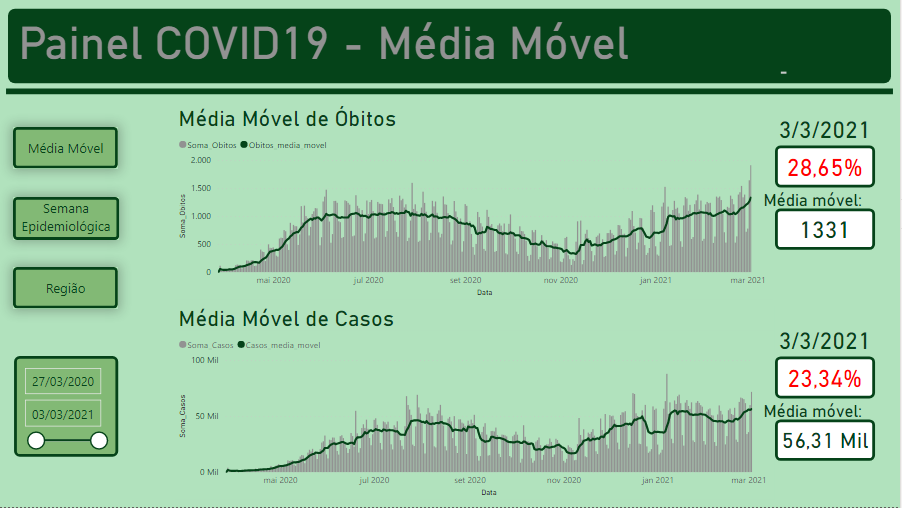

The dashboard page shown, as its layout file describes it:
{"tool":"powerbi","page":{"name":"Media_Movel","canvas":[1280,720],"ordinal":0},"visuals":[{"type":"actionButton","box":[20,280,150.8,60.6],"z":0},{"type":"actionButton","box":[20,380,149.3,59.1],"z":1000},{"type":"actionButton","box":[20,180,149.3,59.1],"z":2000},{"type":"basicShape","box":[0,11.8,1280,107.9],"z":3000},{"type":"textbox","title":"Painel COVID19 - Média Móvel","box":[22.2,22.2,1101.2,87.2],"z":4000},{"type":"basicShape","box":[0,121.2,1280,17.7],"z":5000},{"type":"basicShape","box":[20,504,150.8,146.3],"z":6000},{"type":"lineClusteredColumnComboChart","title":"Média Móvel de Óbitos","fields":{"Category":["Media movel.Data"],"Y2":["Media movel.Obitos_media_movel"],"Y":["Sum(Media movel.Soma_Obitos)"]},"box":[250,150.2,850,274.9],"z":7000},{"type":"lineClusteredColumnComboChart","title":"Média Móvel de Casos","fields":{"Category":["Media movel.Data"],"Y2":["Media movel.Casos_media_movel"],"Y":["Sum(Media movel.Soma_Casos)"]},"box":[250,434.7,851,274.9],"z":8000},{"type":"slicer","fields":{"Values":["Media movel.Data"]},"box":[23.6,512.9,138.9,134.5],"z":9000},{"type":"basicShape","box":[1100.7,205.7,145.4,60.7],"z":10000},{"type":"card","fields":{"Values":["Media movel.Obitos_Variação_14_dias"]},"box":[1105.5,205.7,135.8,57.5],"z":11000},{"type":"card","fields":{"Values":["Max(Media movel.Data)"]},"box":[1081.5,159.4,183.8,46.3],"z":12000},{"type":"basicShape","box":[1100.8,296.2,145.2,59.8],"z":12500},{"type":"card","title":"Média móvel:","fields":{"Values":["Media movel.Obitos_media_movel"]},"box":[1081.5,271.3,183.8,78.3],"z":13000},{"type":"basicShape","box":[1100.7,505.6,145.4,60.7],"z":14000},{"type":"card","fields":{"Values":["Media movel.Casos_Variação_14_dias"]},"box":[1105.5,505.6,135.8,57.5],"z":15000},{"type":"card","fields":{"Values":["Max(Media movel.Data)"]},"box":[1081.5,459.2,183.8,46.3],"z":16000},{"type":"basicShape","box":[1100.6,595.2,145.2,59.8],"z":16500},{"type":"card","title":"Média móvel:","fields":{"Values":["Media movel.Casos_media_movel"]},"box":[1081.5,571.1,183.8,78.3],"z":17000}]}

Visuals, with their boxes in screenshot pixels (x1, y1, x2, y2), scaled from the page's 1280x720 canvas onto the 902x508 screenshot:
actionButton: 14,198,120,240
actionButton: 14,268,119,310
actionButton: 14,127,119,169
basicShape: 0,8,901,84
"Painel COVID19 - Média Móvel" textbox: 16,16,792,77
basicShape: 0,86,901,98
basicShape: 14,356,120,459
"Média Móvel de Óbitos" lineClusteredColumnComboChart: 176,106,775,300
"Média Móvel de Casos" lineClusteredColumnComboChart: 176,307,776,501
slicer - Media movel.Data: 17,362,115,457
basicShape: 776,145,878,188
card - Media movel.Obitos_Variação_14_dias: 779,145,875,186
card - Max(Media movel.Data): 762,112,892,145
basicShape: 776,209,878,251
"Média móvel:" card: 762,191,892,247
basicShape: 776,357,878,400
card - Media movel.Casos_Variação_14_dias: 779,357,875,397
card - Max(Media movel.Data): 762,324,892,357
basicShape: 776,420,878,462
"Média móvel:" card: 762,403,892,458
